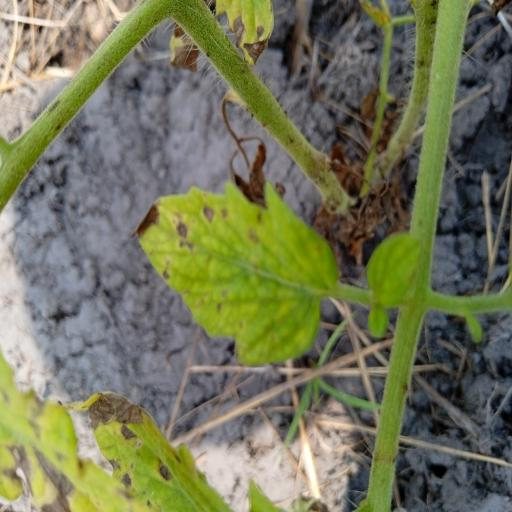Tomato_Brown_Spots: (136, 161, 338, 372)
